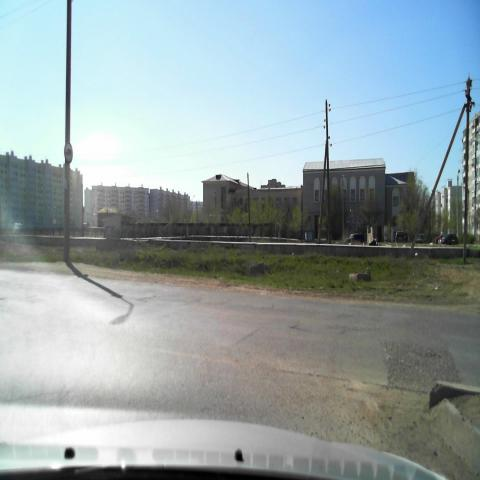3_4_1: (63, 140, 76, 169)
